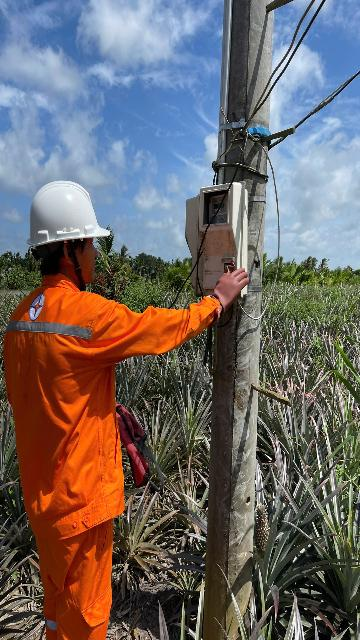gloves: (203, 256, 258, 319)
helmet: (17, 168, 130, 265)
